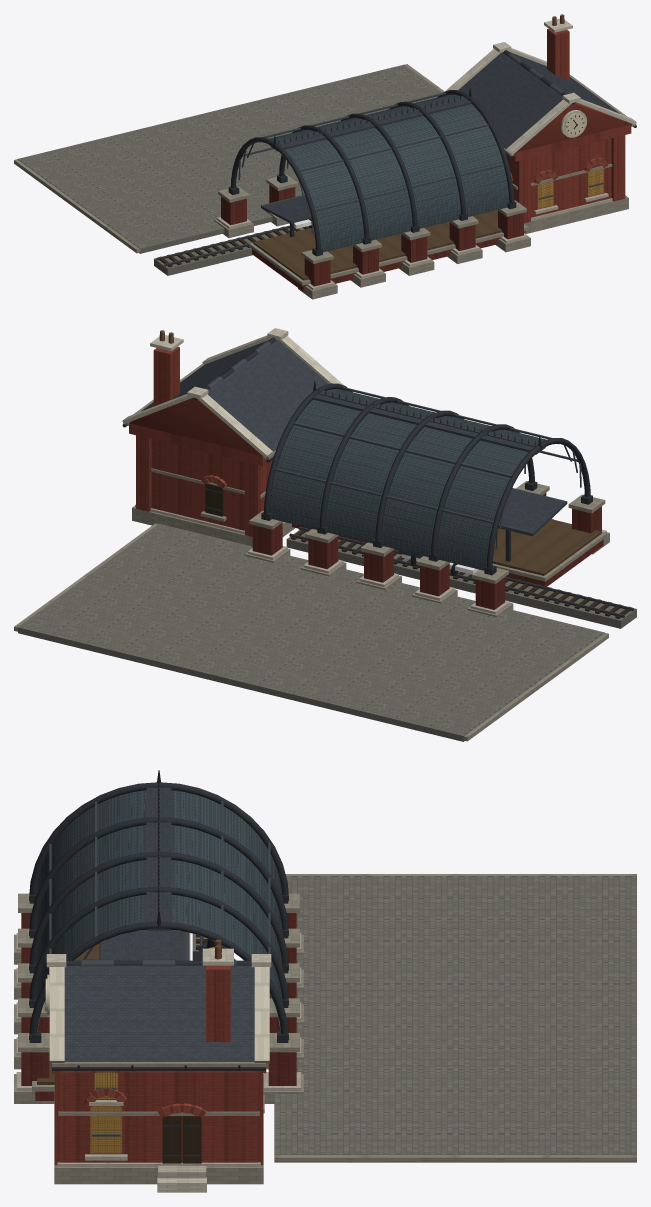
File: civic-industrial-public-baths-built.glb
3 renders of one model, top to bottom at view 1: azimuth 30°, elevation 25°; view 2: azimuth 150°, elevation 25°; view 3: azimuth 270°, elevation 25°, orthographic. The views are drawn at different scales.
Size of the model in its own units: 44.77 by 15.42 by 37.8.
Materials: 45 (37 with a texture image).
